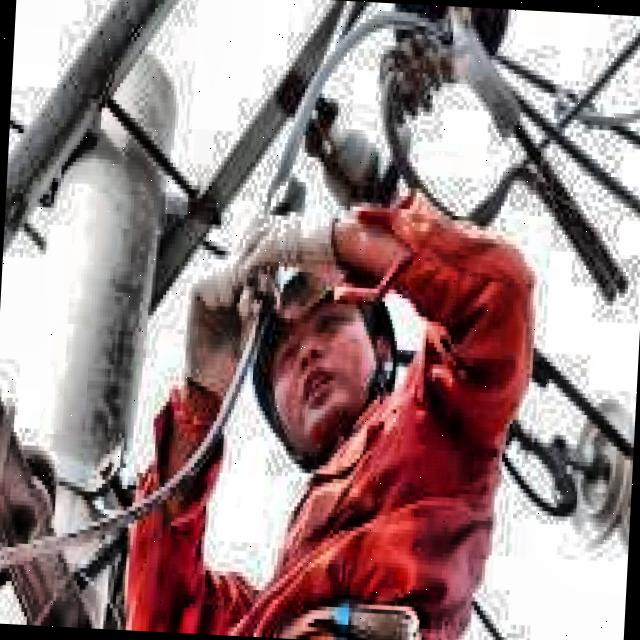helmet: (228, 248, 402, 470)
